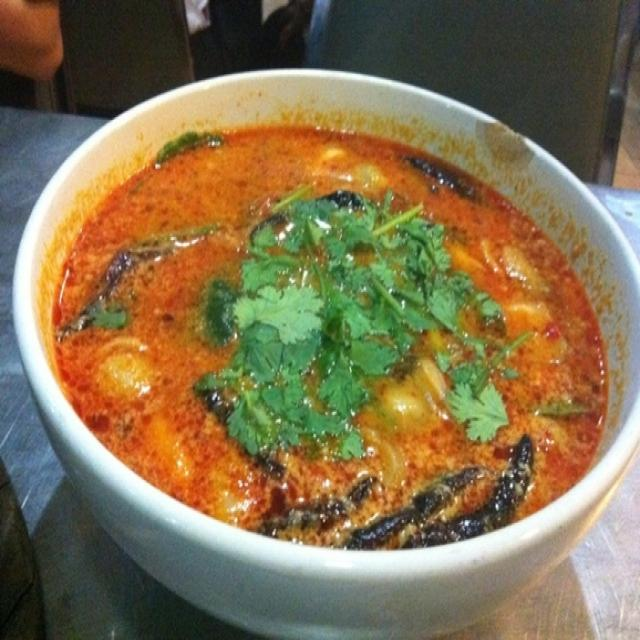汤锅炖物: (28, 64, 628, 575)
